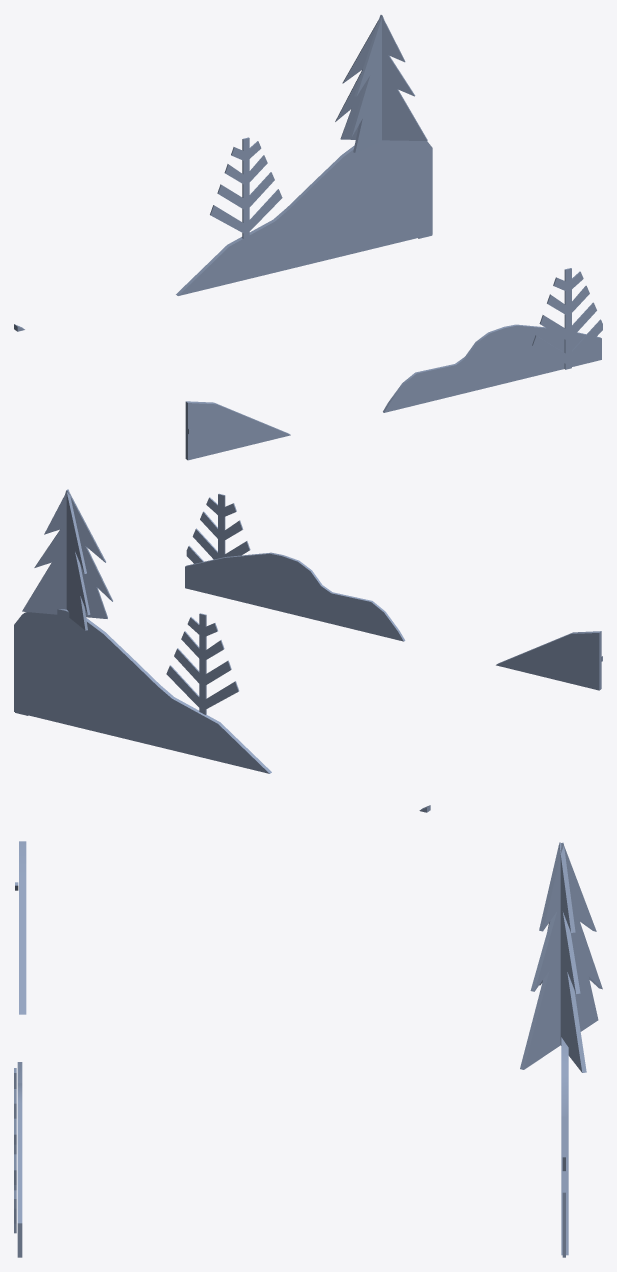
Rendered from frame_0232.glb.
3 views of the same model, one above another, from view 1: azimuth 30°, elevation 25°; view 2: azimuth 150°, elevation 25°; view 3: azimuth 270°, elevation 25° (orthographic). The views are drawn at different scales.
Parts seen in each view (by area): view 1: export_trees_001.002; view 2: export_trees_001.002; view 3: export_trees_001.002.
Part boxes in pixels (box(x1,y1,x2,y2)): export_trees_001.002: box(14, 15, 602, 460); export_trees_001.002: box(14, 489, 602, 812); export_trees_001.002: box(14, 841, 602, 1257).
Bounding box in the file's own units: 0.4327 × 0.2333 × 0.3323.
